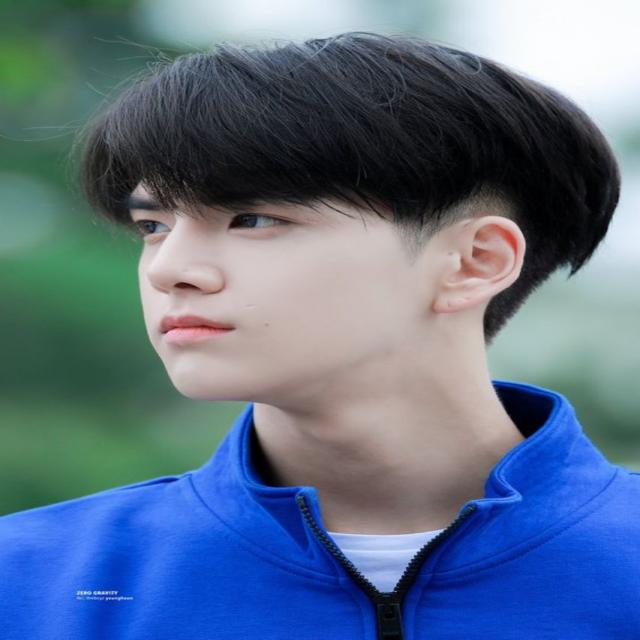Nonhelmet: (73, 29, 623, 414)
